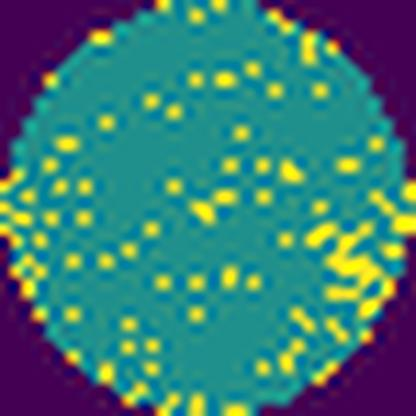Loc: (308, 220, 387, 313)
